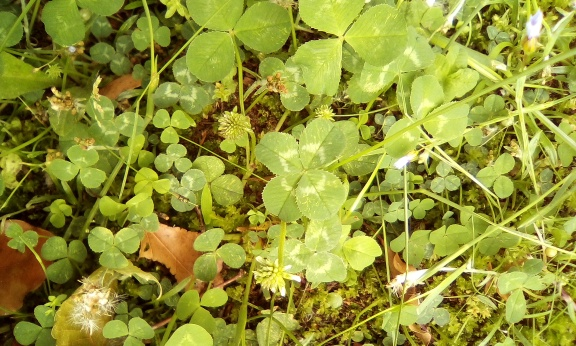4leaf: (254, 117, 348, 222)
